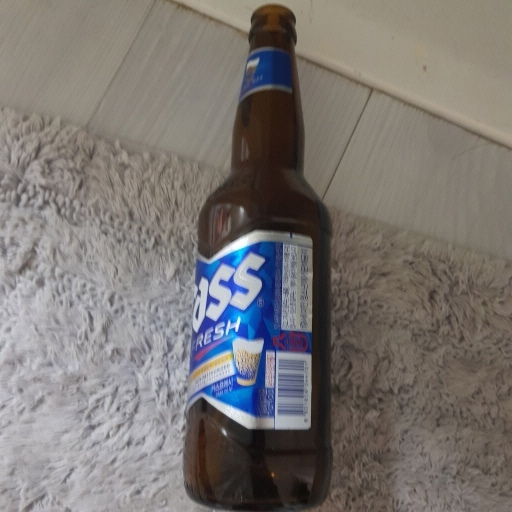Glass_1: (177, 7, 332, 509)
